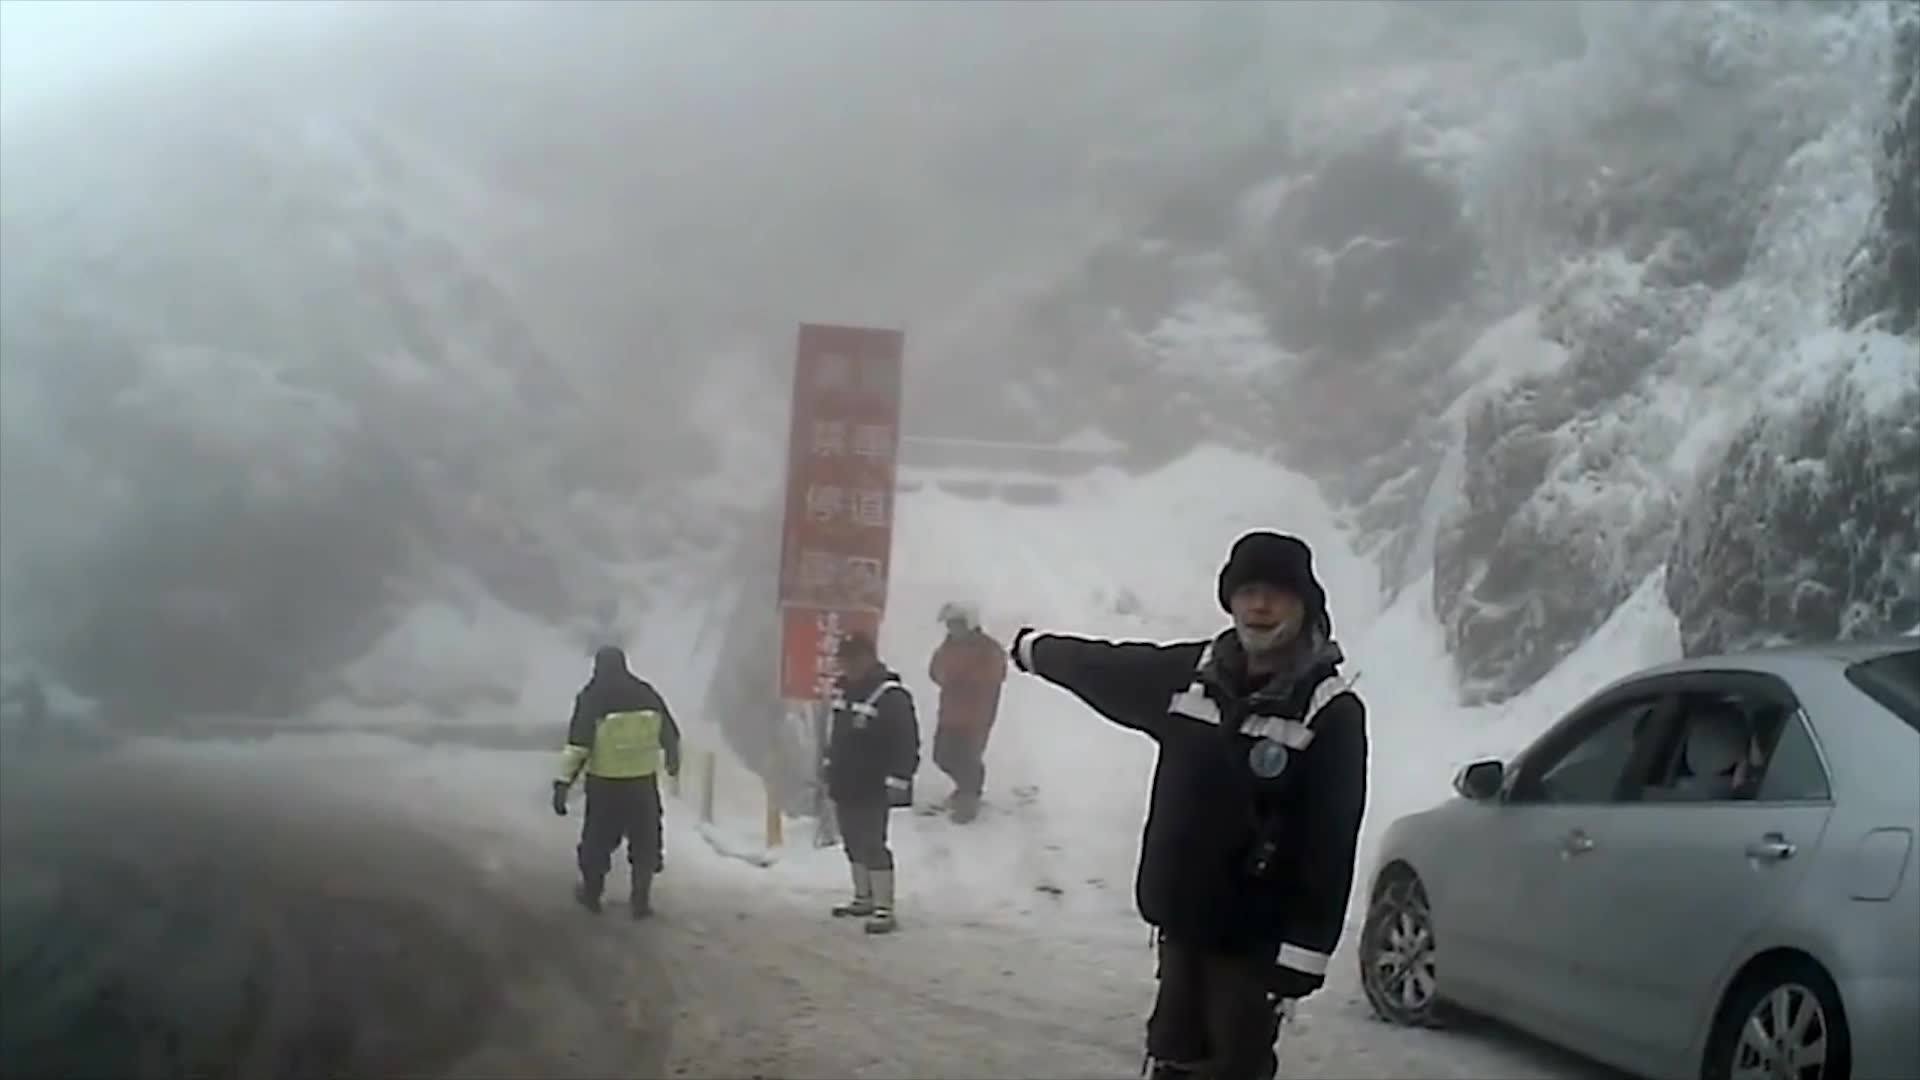pedestrian: (1012, 522, 1375, 1080), (547, 649, 697, 917), (816, 628, 922, 938), (926, 599, 1012, 822)
vehicle: (1355, 639, 1919, 1080)
